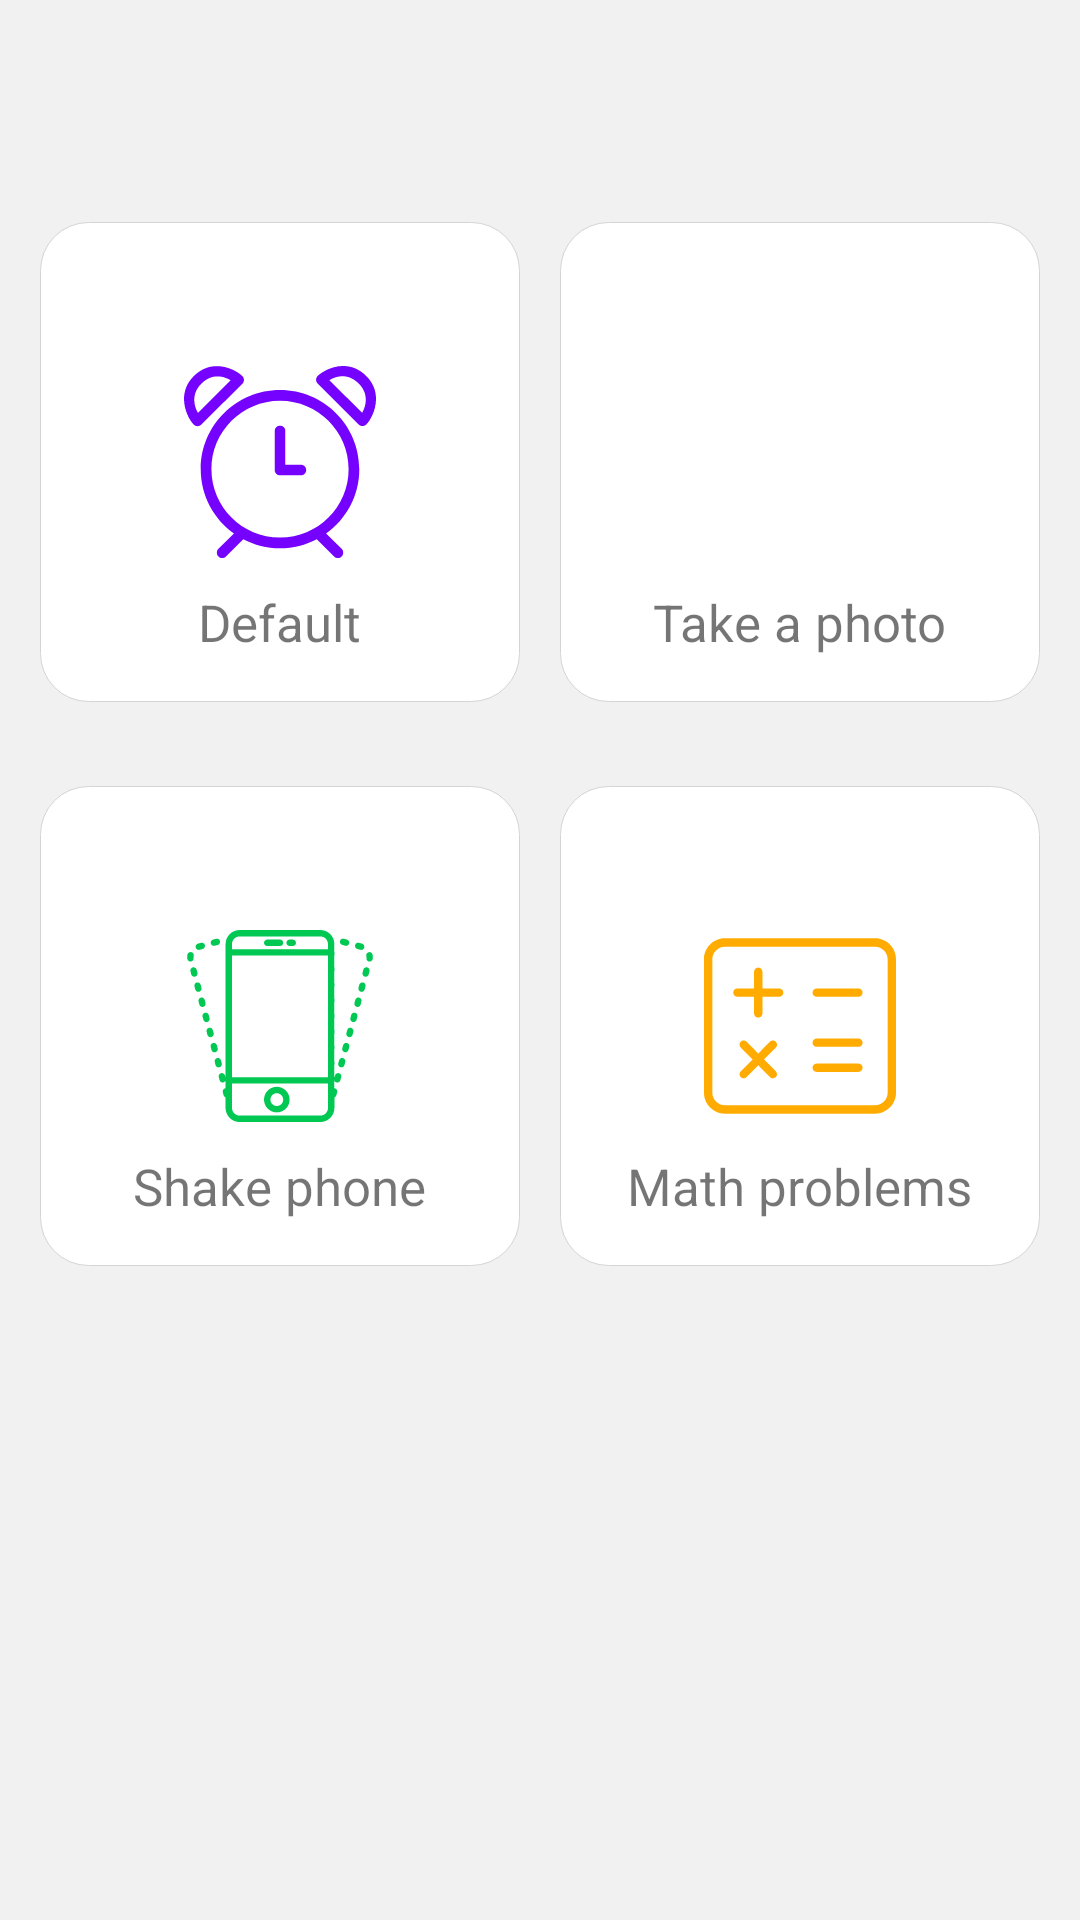

Where to tap for icons on this 1080x1920 app screen, as point (x, y):
alarm: point (280, 462)
calculator: point (800, 1026)
smart phone: point (280, 1026)
